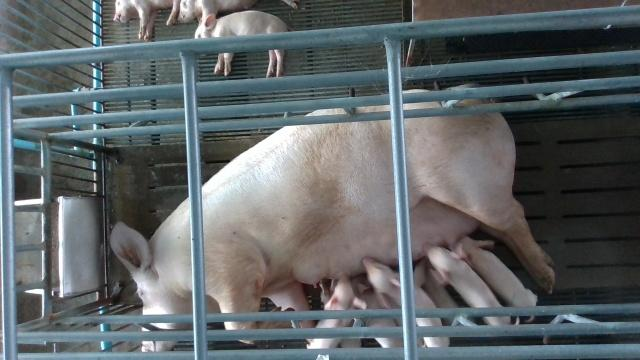piglet: (362, 257, 450, 347), (451, 235, 537, 322), (422, 242, 510, 325), (195, 10, 293, 78), (306, 275, 367, 349), (114, 0, 180, 41), (178, 0, 257, 24)
sow-sleep-lactate: (109, 85, 555, 351)
